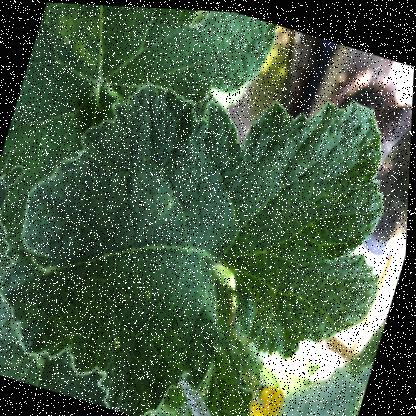Normal: (0, 16, 415, 415)
